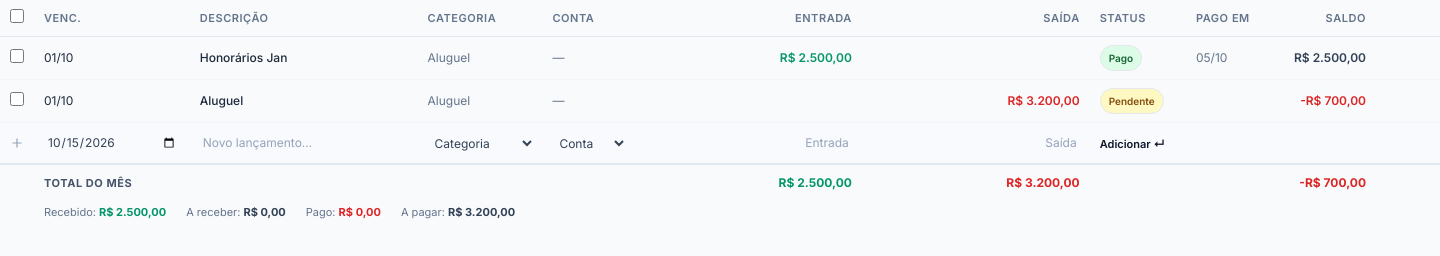
FinancialSheet — inclusão rápida › exige entrada OU saída (não as duas, nem nenhuma)
Type "Teste" into the field with test id "quick-add-description". click: (304, 143)
box: [196, 130, 412, 156]
Then press Enter
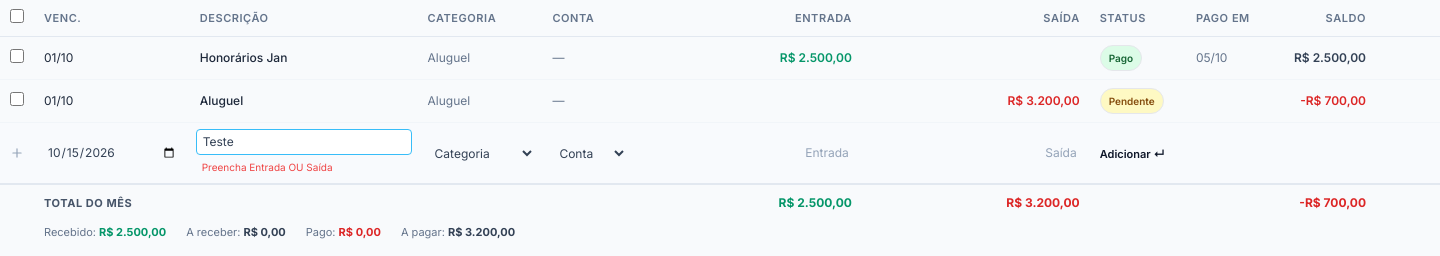
Result: the text with test id "quick-add-error" shows "Entrada OU Saída" at [202, 161, 332, 173]
Type "10" into the field with test id "quick-add-income". click: (748, 153)
box: [640, 140, 856, 166]
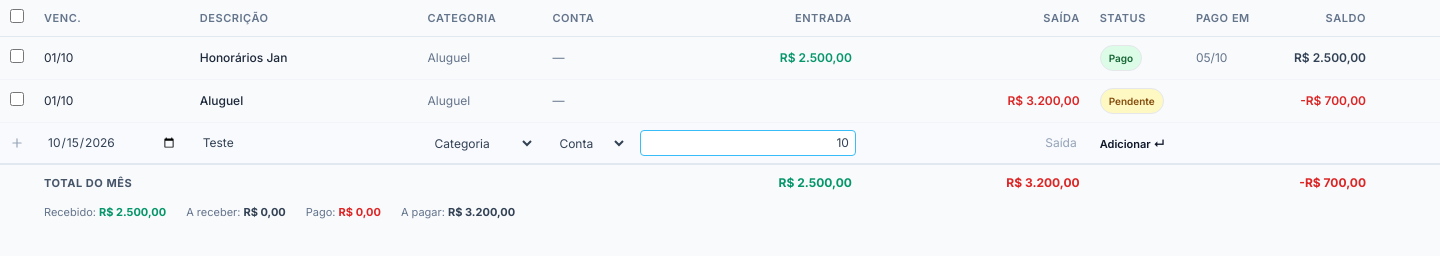
Type "10" into the field with test id "quick-add-expense". click: (976, 143)
box: [868, 130, 1084, 156]
Then press Enter
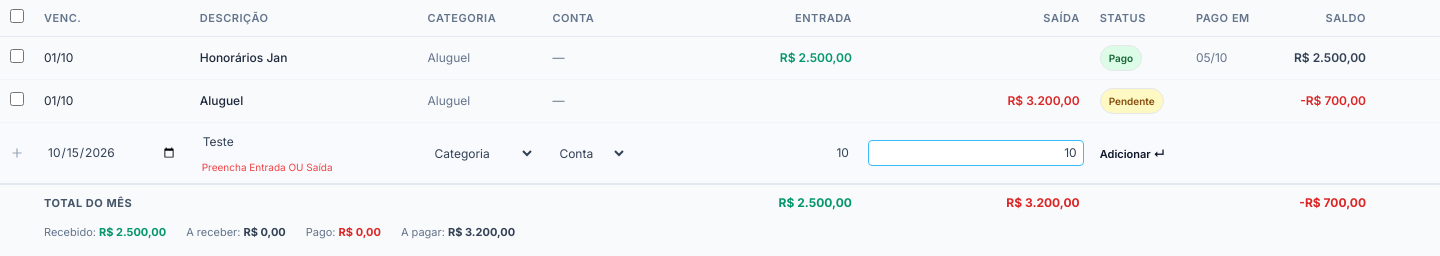
Result: the text with test id "quick-add-error" shows "Entrada OU Saída" at [202, 161, 332, 173]
